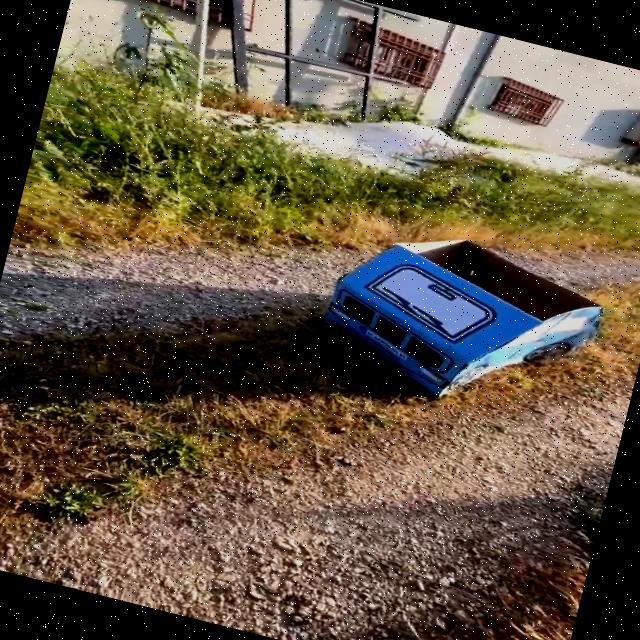blue_car: (254, 181, 640, 448)
